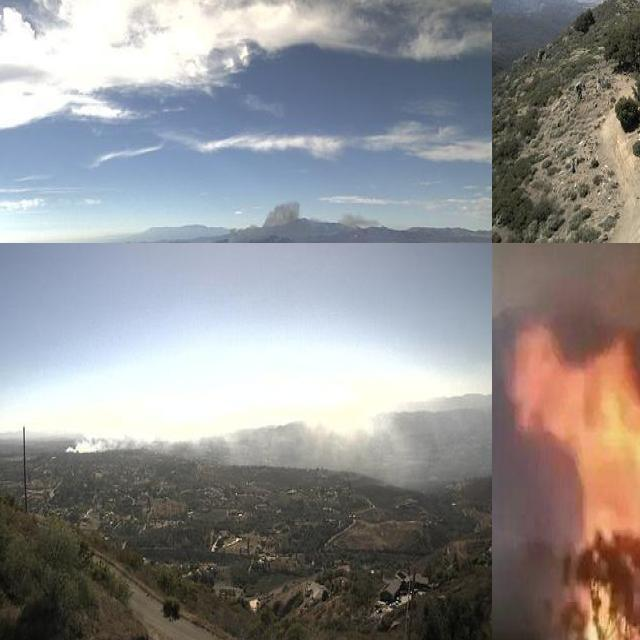fire: (515, 315, 640, 640)
smoke: (62, 388, 416, 482), (492, 429, 559, 640), (204, 196, 301, 243)
